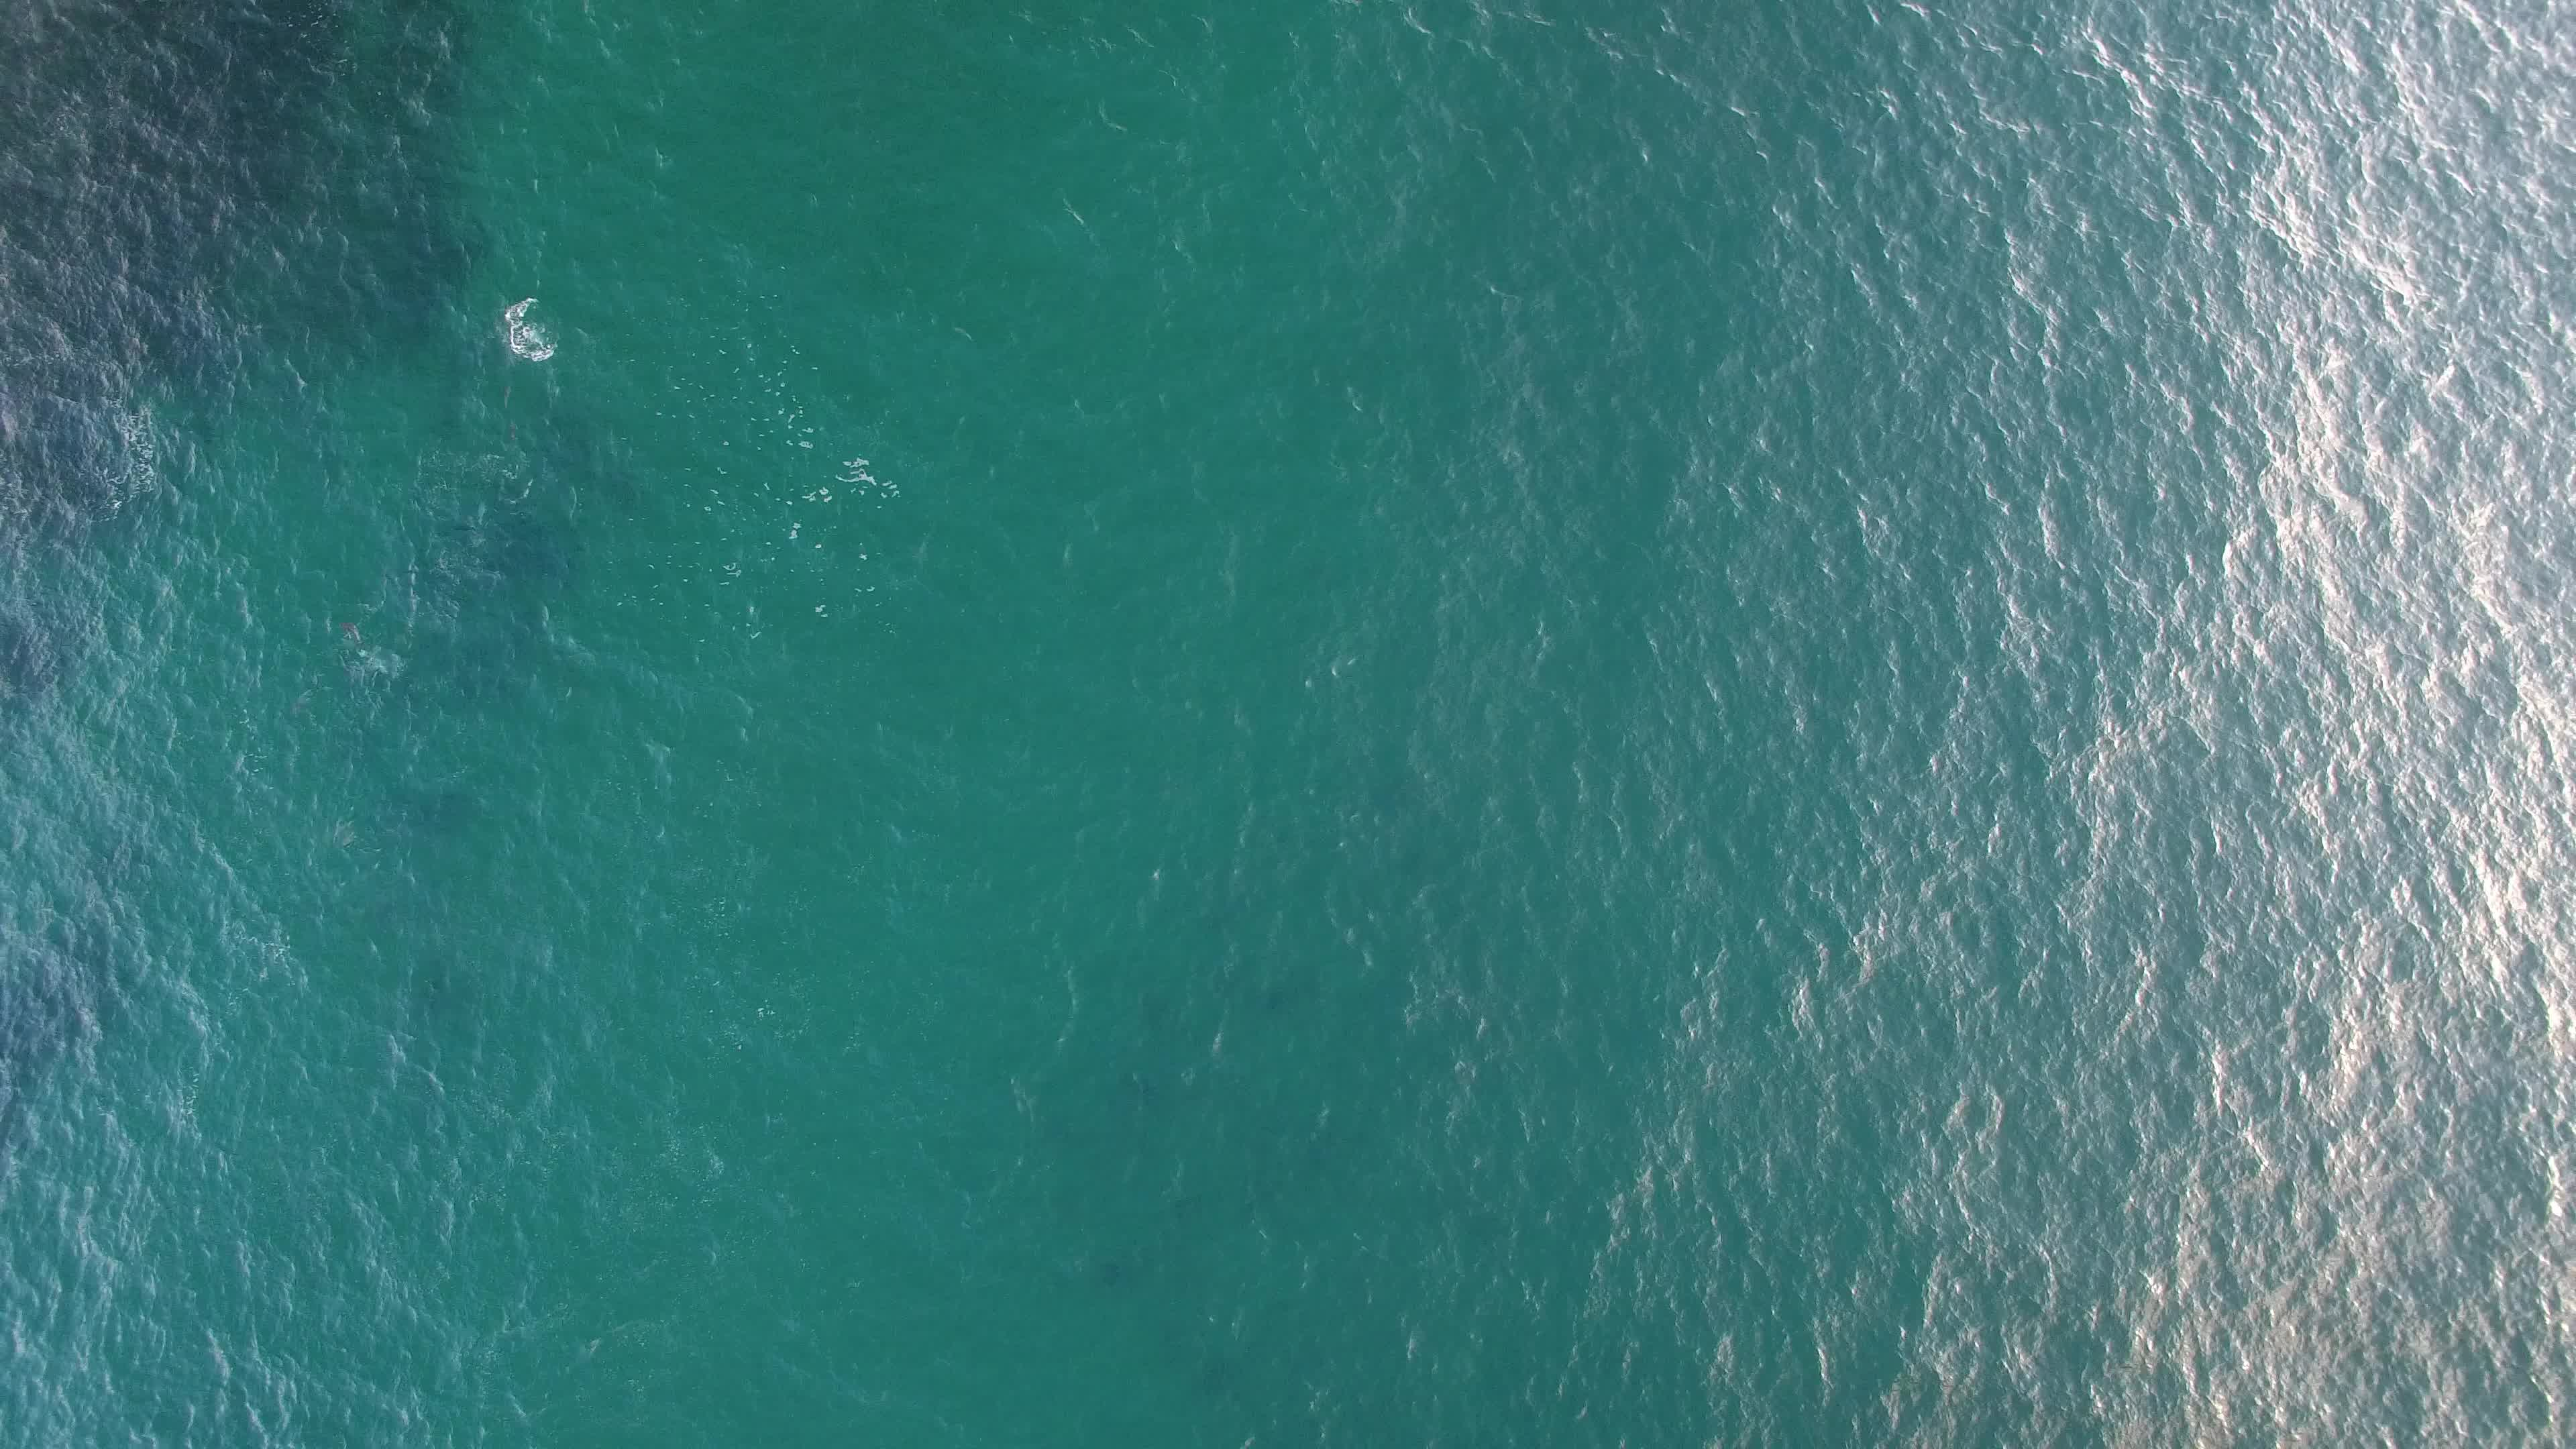dolphin: (326, 610, 375, 653)
